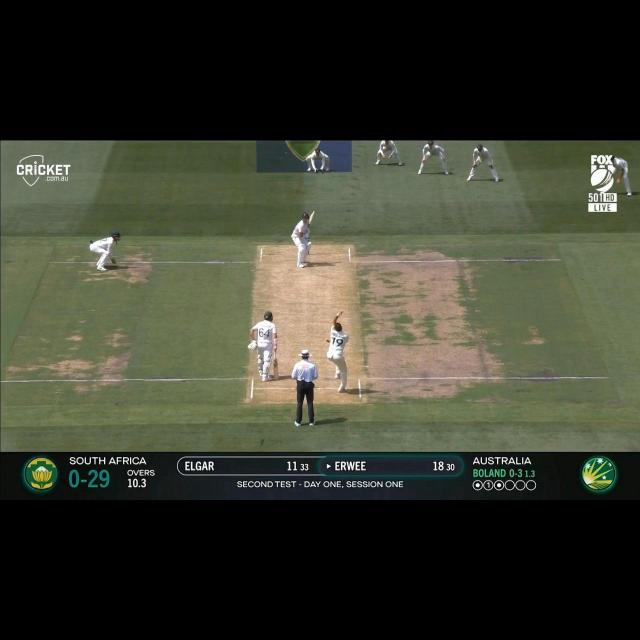bat: (273, 359, 279, 381), (309, 210, 315, 225)
toe: (312, 210, 315, 215), (274, 377, 279, 380)
